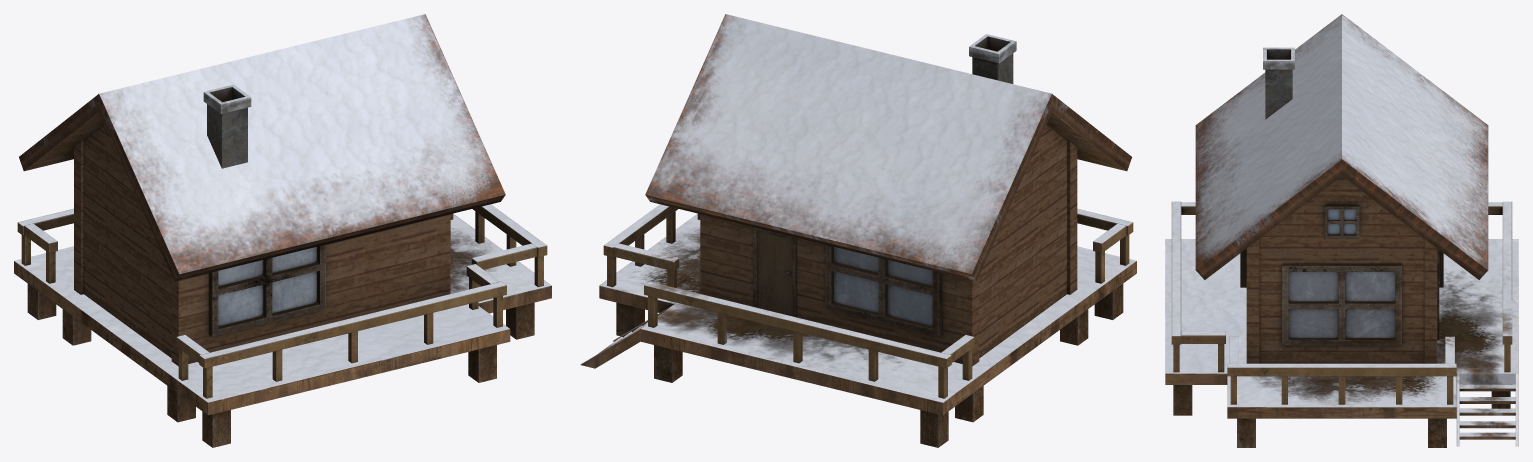
Rendered from house.fbx.
3 views of the same model, side by side, from view 1: azimuth 30°, elevation 25°; view 2: azimuth 150°, elevation 25°; view 3: azimuth 270°, elevation 25° (orthographic). The views are drawn at different scales.
Visible parts, largest first — view 1: pCube5, pCube7, pCube1, pCube58, pCube37, pPlane3, pCube6, polySurface4, pCube57, polySurface3, pCube22, pCube17 (+8 smaller); view 2: pCube5, pCube7, pCube57, pCube58, pCube34, pPlane6, polySurface1, pCube6, pCube1, polySurface2, pCube22, pCube26 (+9 smaller); view 3: pCube5, pCube7, pCube59, pPlane4, pCube22, polySurface5, pCube57, pCube6, pCube1, pCube37, pCube34, polySurface6 (+11 smaller).
Boxes of the visible parts, box(x1,y1,x2,y2) form: pCube5: box(19, 14, 505, 281); pCube7: box(14, 214, 551, 415); pCube1: box(171, 214, 450, 366); pCube58: box(84, 124, 171, 357); pCube37: box(199, 281, 506, 368); pPlane3: box(218, 247, 316, 326); pCube6: box(203, 84, 251, 168); polySurface4: box(209, 244, 325, 336); pCube57: box(74, 140, 83, 294); polySurface3: box(218, 258, 319, 317); pCube22: box(472, 204, 547, 257); pCube17: box(202, 410, 230, 447); pCube5: box(645, 14, 1131, 281); pCube7: box(599, 214, 1136, 415); pCube57: box(700, 214, 979, 366); pCube58: box(979, 124, 1067, 357); pCube34: box(644, 281, 951, 368); pPlane6: box(834, 247, 932, 326); polySurface1: box(825, 244, 941, 336); pCube6: box(969, 34, 1016, 83); pCube1: box(1067, 140, 1077, 294); polySurface2: box(831, 258, 932, 317); pCube22: box(603, 204, 678, 257); pCube26: box(613, 243, 679, 271); pCube5: box(1195, 14, 1488, 279); pCube7: box(1165, 239, 1518, 418); pCube59: box(1259, 176, 1424, 363); pPlane4: box(1288, 272, 1395, 337); pCube22: box(1227, 363, 1456, 376); polySurface5: box(1282, 263, 1401, 345); pCube57: box(1424, 239, 1439, 363); pCube6: box(1263, 47, 1294, 119); pCube1: box(1246, 239, 1259, 363); pCube37: box(1171, 201, 1181, 344); pCube34: box(1502, 201, 1512, 344); polySurface6: box(1288, 272, 1395, 339).
Bounding box in the file's own units: 645 × 463 × 555.
